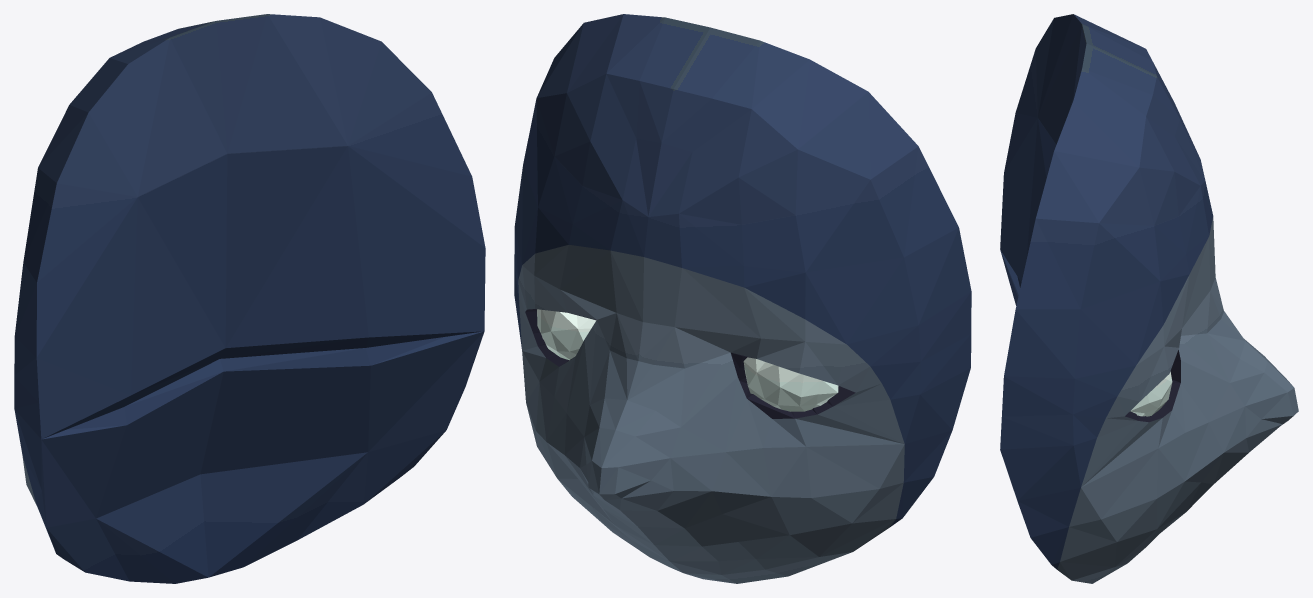
Rendered from CharSkyKid_Mask_AP14Sad_01.glb.
3 renders of one model, left to right at view 1: azimuth 30°, elevation 25°; view 2: azimuth 150°, elevation 25°; view 3: azimuth 270°, elevation 25°, orthographic. The views are drawn at different scales.
Parts seen in each view (by area): view 1: CharSkyKid_Mask_AP14Sad_01; view 2: CharSkyKid_Mask_AP14Sad_01; view 3: CharSkyKid_Mask_AP14Sad_01.
Part boxes in pixels (x1=…): CharSkyKid_Mask_AP14Sad_01: x1=14, y1=14, x2=485, y2=583; CharSkyKid_Mask_AP14Sad_01: x1=514, y1=14, x2=971, y2=583; CharSkyKid_Mask_AP14Sad_01: x1=1000, y1=14, x2=1298, y2=583.
Size of the model in its own units: 2.15 by 2.58 by 1.34.
1 material, 1 textured.
